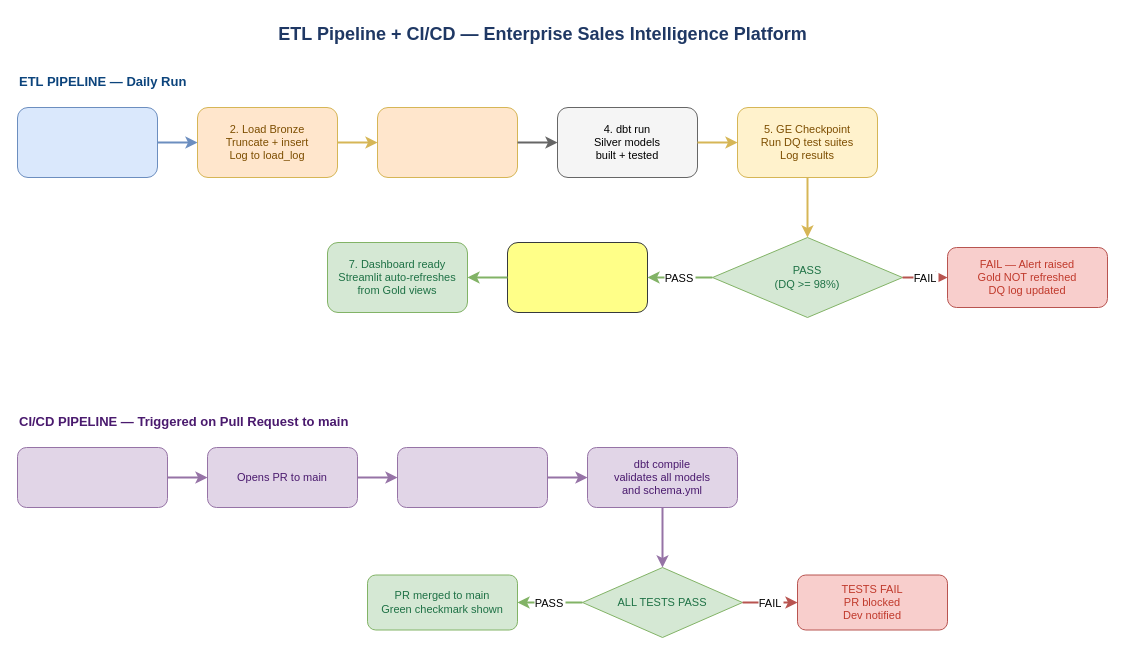
Image size: 1125x655. Some labels were removed from this diagram. The shapes that lost their labels are listed below. From the top down, each one's centre as x and y in pixels, then its label:
At pixel 87 142: "1. Extract Read CSV files from ERP + CRM".
At pixel 447 142: "3. Profile ydata-profiling report generated".
At pixel 577 277: "6. Load Gold fact_sales + dims KPI views refresh".
At pixel 92 477: "Developer pushes to feature branch".
At pixel 472 477: "GitHub Actions triggered automatically".
